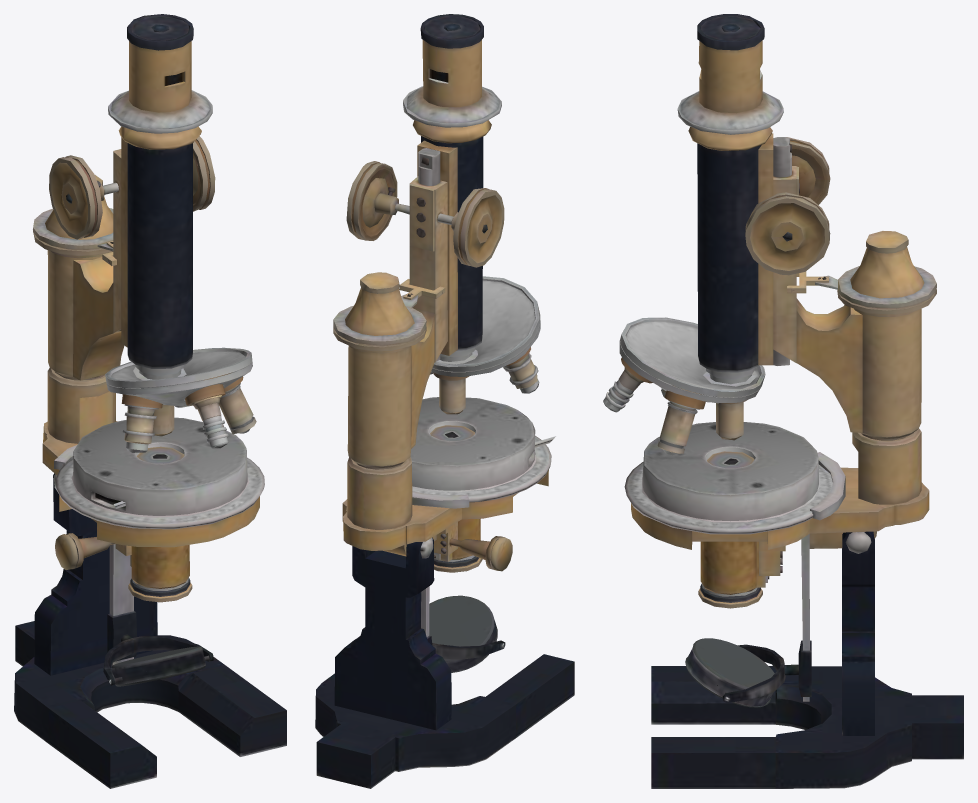
Rendered from microscope.glb.
3 views of the same model, side by side, from view 1: azimuth 30°, elevation 25°; view 2: azimuth 150°, elevation 25°; view 3: azimuth 270°, elevation 25° (orthographic). The views are drawn at different scales.
Visible parts, largest first — view 1: vintage_microscope_mirror_arm, vintage_microscope_mirror_base; view 2: vintage_microscope_mirror_arm, vintage_microscope_mirror_base; view 3: vintage_microscope_mirror_arm, vintage_microscope_mirror_base.
Part boxes in pixels (x1=…): vintage_microscope_mirror_arm: x1=14, y1=14, x2=286, y2=788; vintage_microscope_mirror_base: x1=111, y1=646, x2=205, y2=686; vintage_microscope_mirror_arm: x1=315, y1=14, x2=574, y2=788; vintage_microscope_mirror_base: x1=429, y1=595, x2=497, y2=672; vintage_microscope_mirror_arm: x1=603, y1=14, x2=963, y2=788; vintage_microscope_mirror_base: x1=685, y1=638, x2=774, y2=707.
Size of the model in its own units: 0.1068 by 0.3996 by 0.1818.
2 materials, 2 textured.
